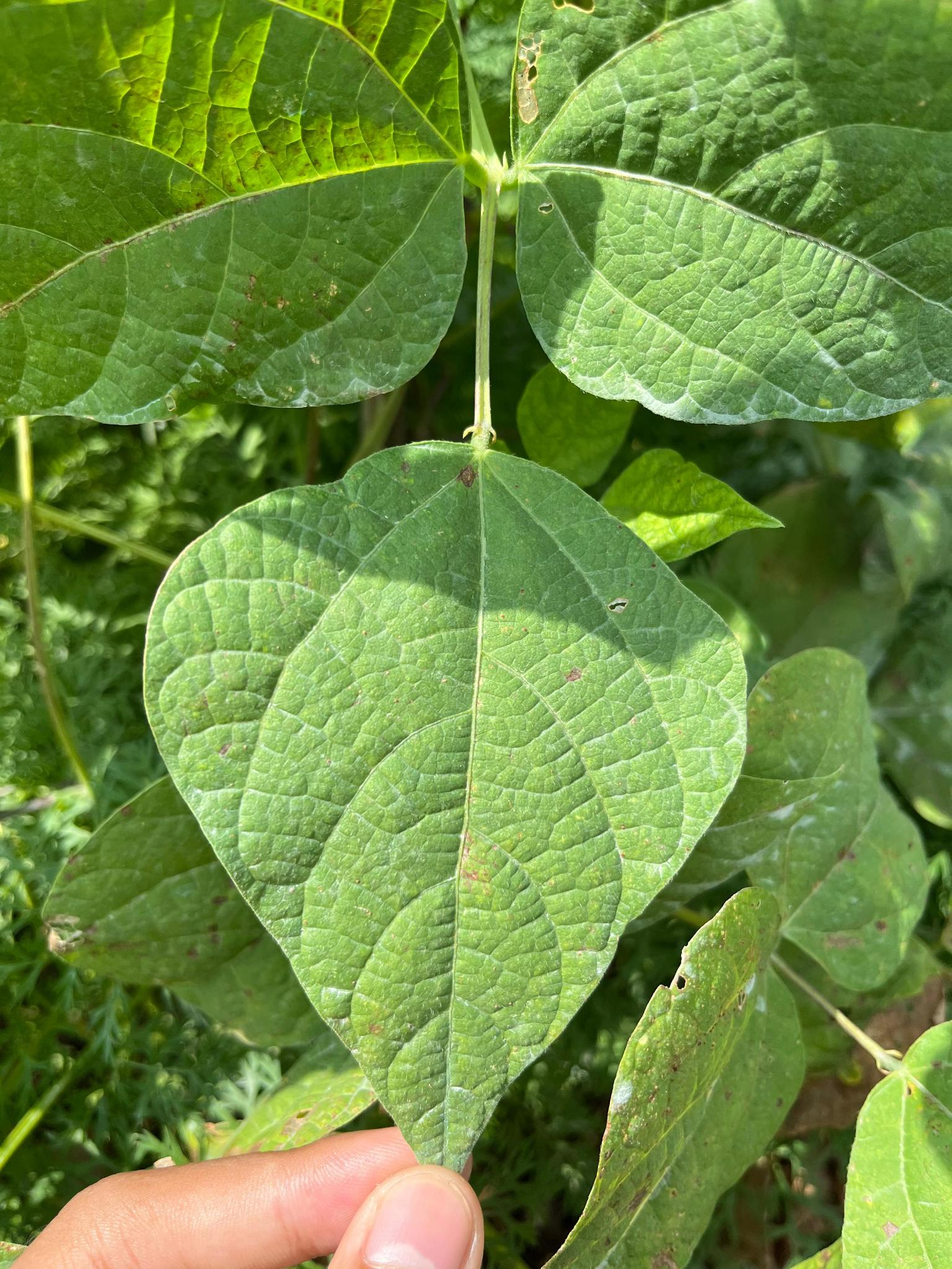sehat: (136, 427, 758, 1192)
